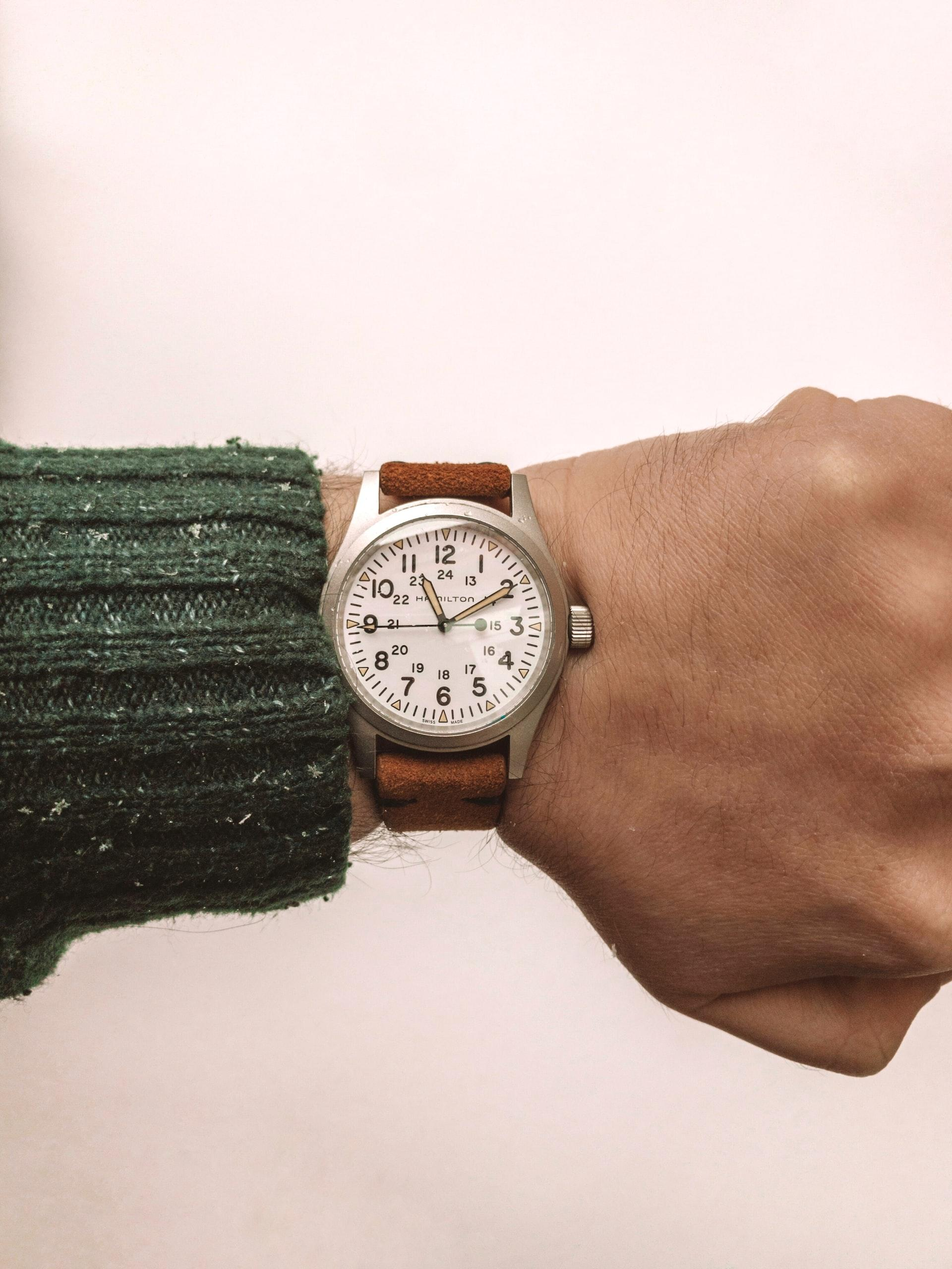watch: (316, 444, 594, 849)
